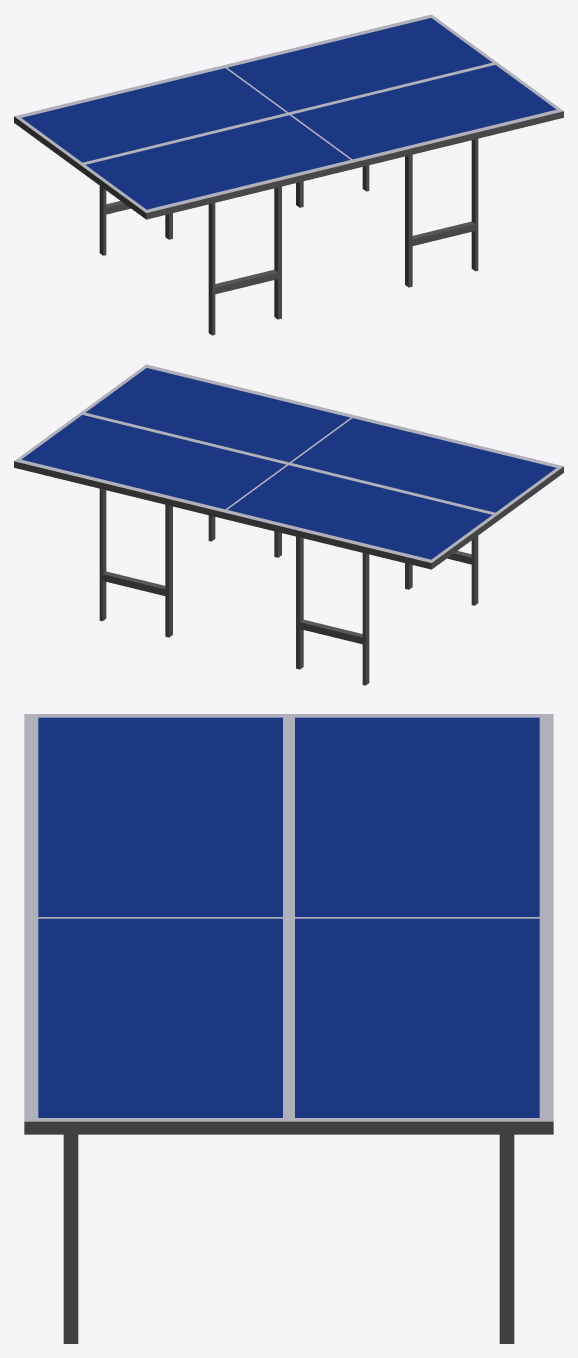
File: galds_Liene.fbx
The picture shows the model from 3 angles, top to bottom: view 1: azimuth 30°, elevation 25°; view 2: azimuth 150°, elevation 25°; view 3: azimuth 270°, elevation 25°; orthographic projection. The views are drawn at different scales.
Parts seen in each view (by area): view 1: Cube; view 2: Cube; view 3: Cube.
Part boxes in pixels (x1,y1,x2,y2): Cube: (14,14,563,335); Cube: (14,364,563,685); Cube: (24,714,553,1343).
Size of the model in its own units: 315 by 107 by 173.
